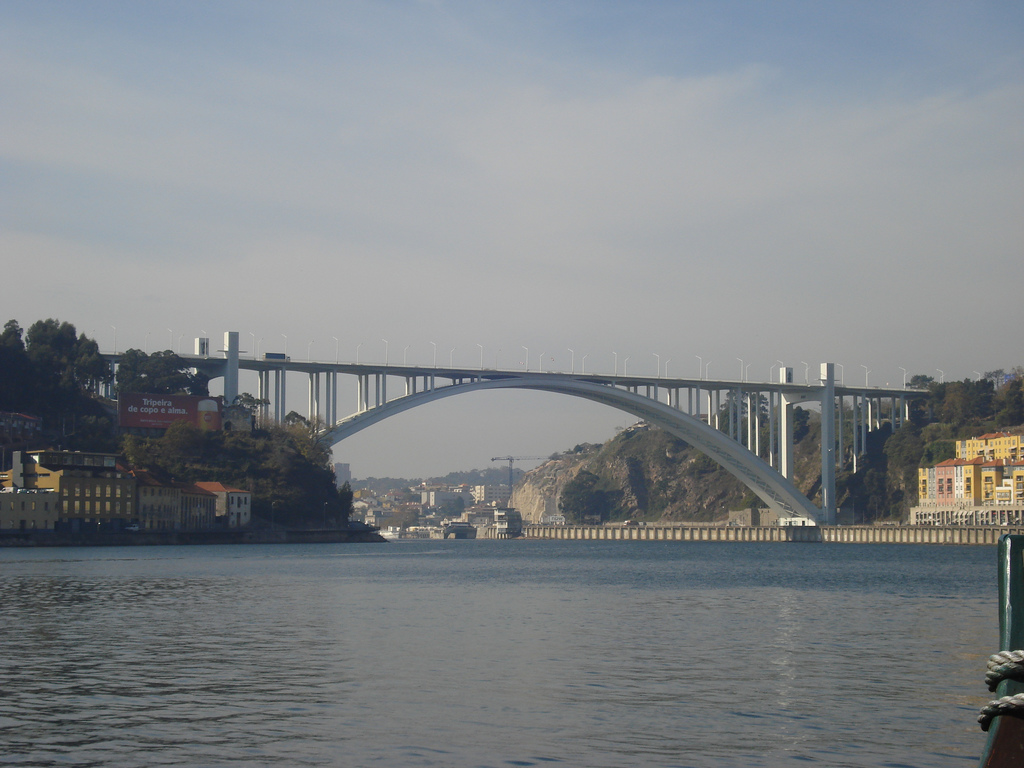arrabida: (174, 330, 932, 530)
